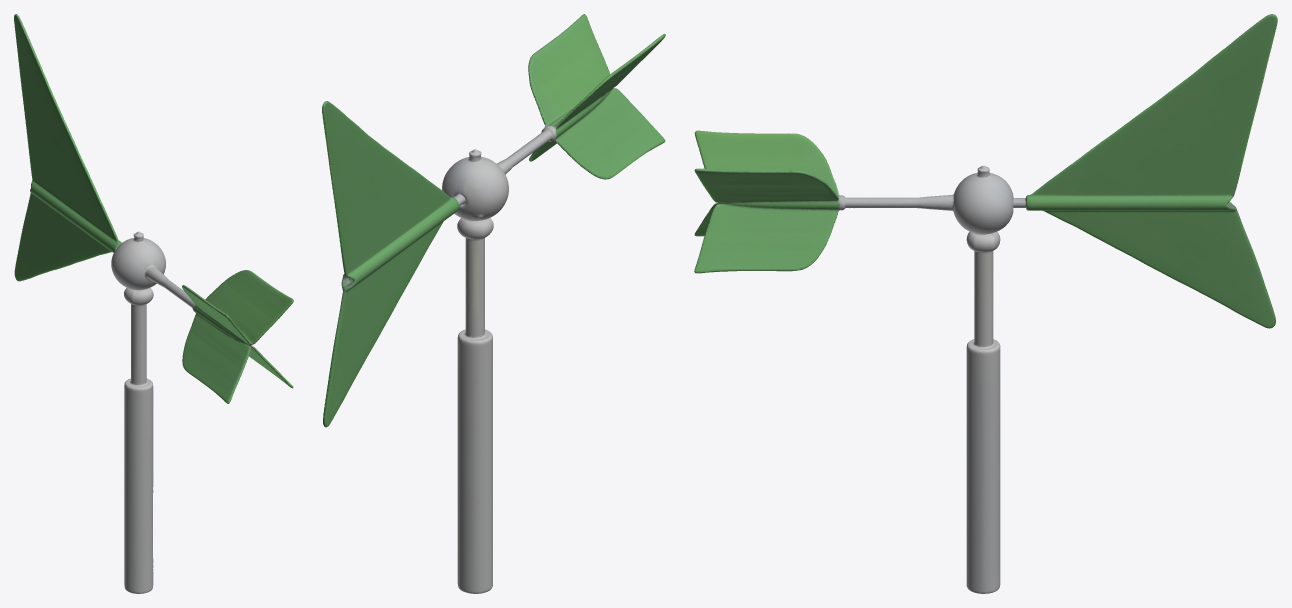
File: wind-vane.glb
The picture shows the model from 3 angles, left to right: view 1: azimuth 30°, elevation 25°; view 2: azimuth 150°, elevation 25°; view 3: azimuth 270°, elevation 25°; orthographic projection. The views are drawn at different scales.
Visible parts, largest first — view 1: tripo_node_e20124ea-6f67-4e1d-bc55-082c2699b804; view 2: tripo_node_e20124ea-6f67-4e1d-bc55-082c2699b804; view 3: tripo_node_e20124ea-6f67-4e1d-bc55-082c2699b804.
Part boxes in pixels (x1=…): tripo_node_e20124ea-6f67-4e1d-bc55-082c2699b804: x1=14, y1=14, x2=293, y2=593; tripo_node_e20124ea-6f67-4e1d-bc55-082c2699b804: x1=322, y1=14, x2=665, y2=593; tripo_node_e20124ea-6f67-4e1d-bc55-082c2699b804: x1=694, y1=14, x2=1277, y2=593.
Bounding box in the file's own units: 0.146 × 1 × 0.9217.
1 material, 1 textured.
